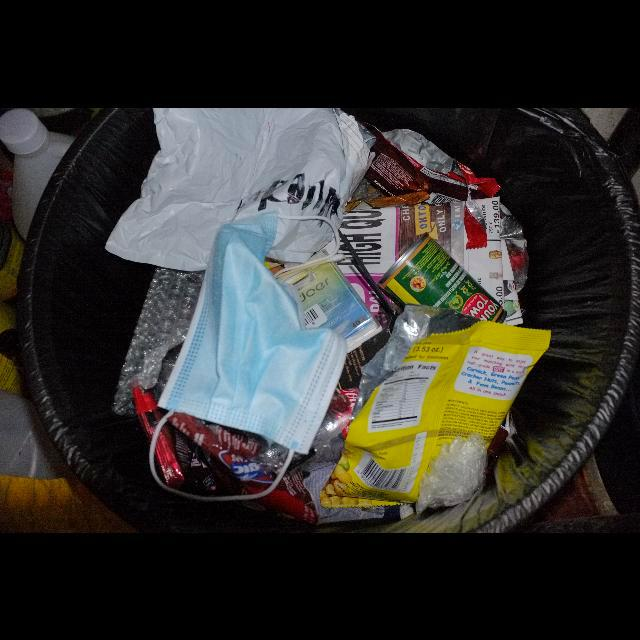aluminum: (376, 230, 507, 323)
food_wrapper: (319, 303, 551, 507), (130, 382, 386, 524), (344, 121, 502, 249)
plastic_bag: (105, 107, 376, 270), (415, 430, 488, 514)
